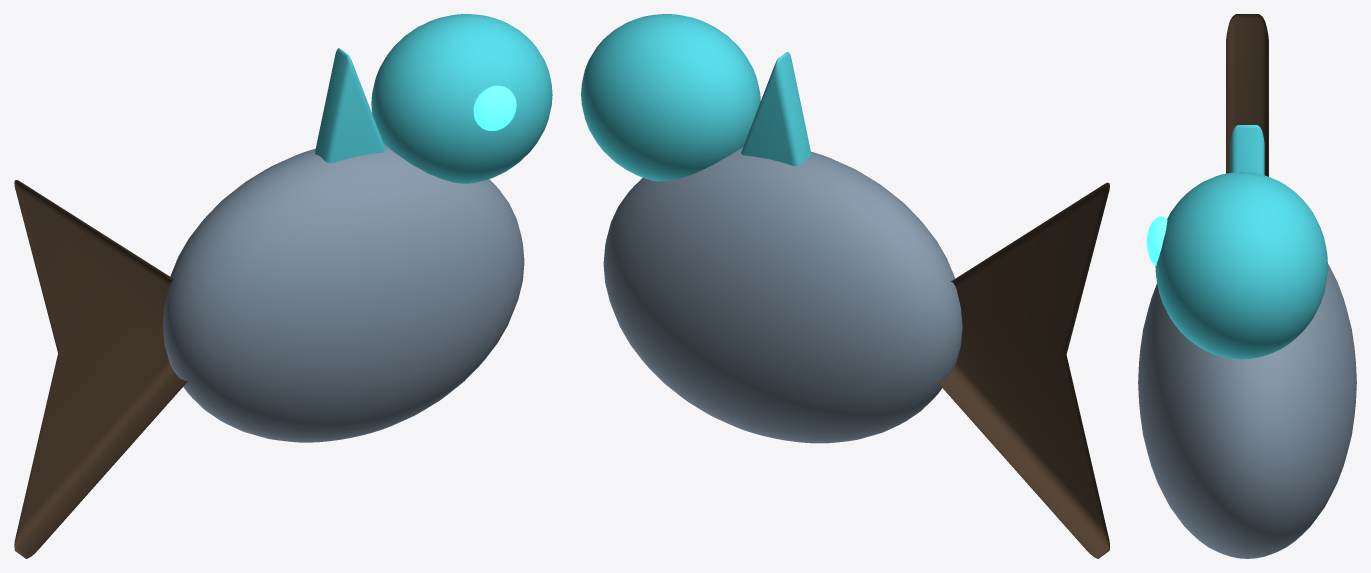
The model's file is aquatic.glb.
3 views of the same model, side by side, from view 1: azimuth 30°, elevation 25°; view 2: azimuth 150°, elevation 25°; view 3: azimuth 270°, elevation 25° (orthographic). The views are drawn at different scales.
Parts seen in each view (by area): view 1: BODY_PRIMARY, TAIL_FIN_SECONDARY, HEAD_ACCENT, DORSAL_FIN_ACCENT, EYE_EMISSIVE; view 2: BODY_PRIMARY, TAIL_FIN_SECONDARY, HEAD_ACCENT, DORSAL_FIN_ACCENT; view 3: BODY_PRIMARY, HEAD_ACCENT, TAIL_FIN_SECONDARY, DORSAL_FIN_ACCENT, EYE_EMISSIVE.
Part boxes in pixels (x1,y1,x2,y2): BODY_PRIMARY: [163, 144, 524, 442]; TAIL_FIN_SECONDARY: [14, 180, 187, 558]; HEAD_ACCENT: [371, 14, 552, 183]; DORSAL_FIN_ACCENT: [314, 48, 385, 163]; EYE_EMISSIVE: [473, 85, 516, 130]; BODY_PRIMARY: [603, 147, 962, 443]; TAIL_FIN_SECONDARY: [938, 182, 1109, 558]; HEAD_ACCENT: [581, 14, 760, 181]; DORSAL_FIN_ACCENT: [741, 51, 811, 165]; BODY_PRIMARY: [1138, 264, 1356, 558]; HEAD_ACCENT: [1155, 172, 1327, 359]; TAIL_FIN_SECONDARY: [1226, 14, 1268, 176]; DORSAL_FIN_ACCENT: [1230, 125, 1264, 175]; EYE_EMISSIVE: [1146, 216, 1167, 265].
Size of the model in its own units: 2.24 by 1.76 by 0.76.
